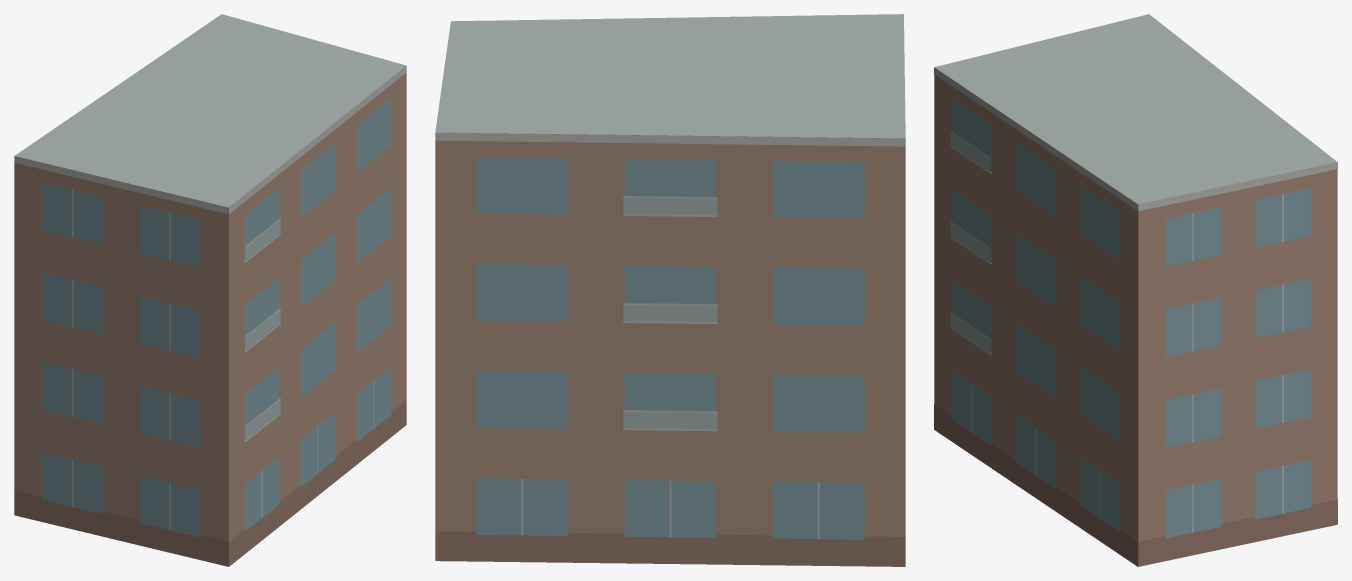
Rendered from survey-upis-33005368.glb.
3 views of the same model, side by side, from view 1: azimuth 30°, elevation 25°; view 2: azimuth 150°, elevation 25°; view 3: azimuth 270°, elevation 25° (orthographic). The views are drawn at different scales.
Parts seen in each view (by area): view 1: survey-upis-33005368.tmp; view 2: survey-upis-33005368.tmp; view 3: survey-upis-33005368.tmp.
Part boxes in pixels (x1,y1,x2,y2): survey-upis-33005368.tmp: [14, 14, 406, 566]; survey-upis-33005368.tmp: [435, 14, 905, 566]; survey-upis-33005368.tmp: [934, 14, 1337, 566].
Size of the model in its own units: 14.43 by 12.8 by 12.93.
